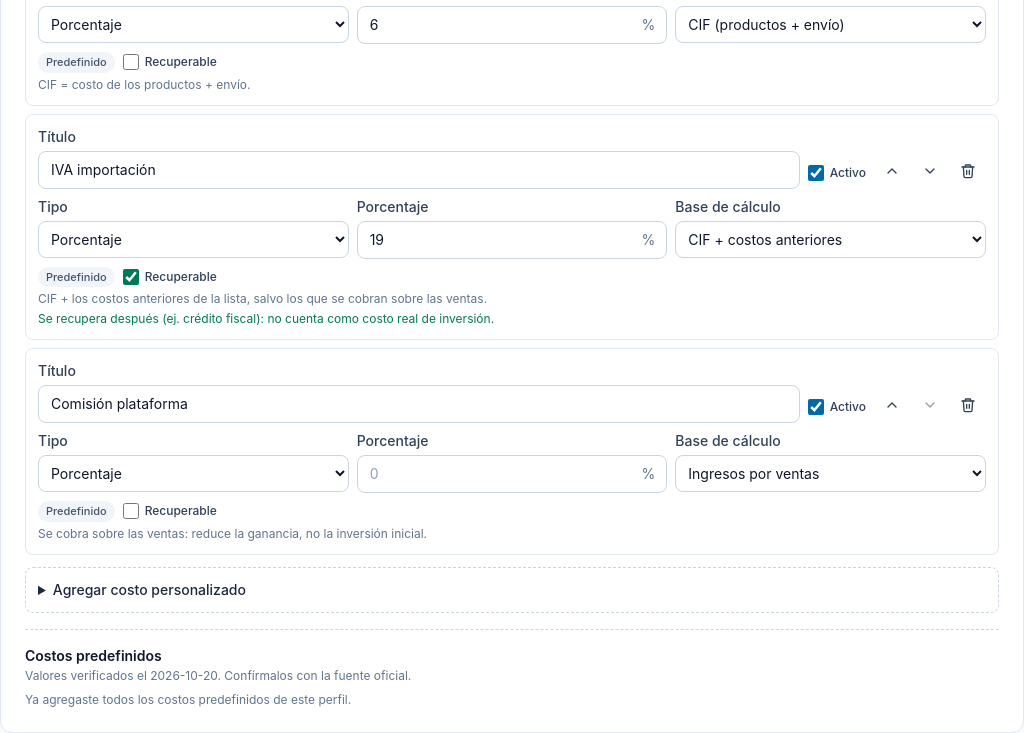
Test: CostList › no agrega un costo sin título
(page scrolled)
What coordinates should you click on to do the following:
click the heading "Agregar costo personalizado"
I would click on:
 (149, 589)
Its box is [53,580,246,598].
(page scrolled)
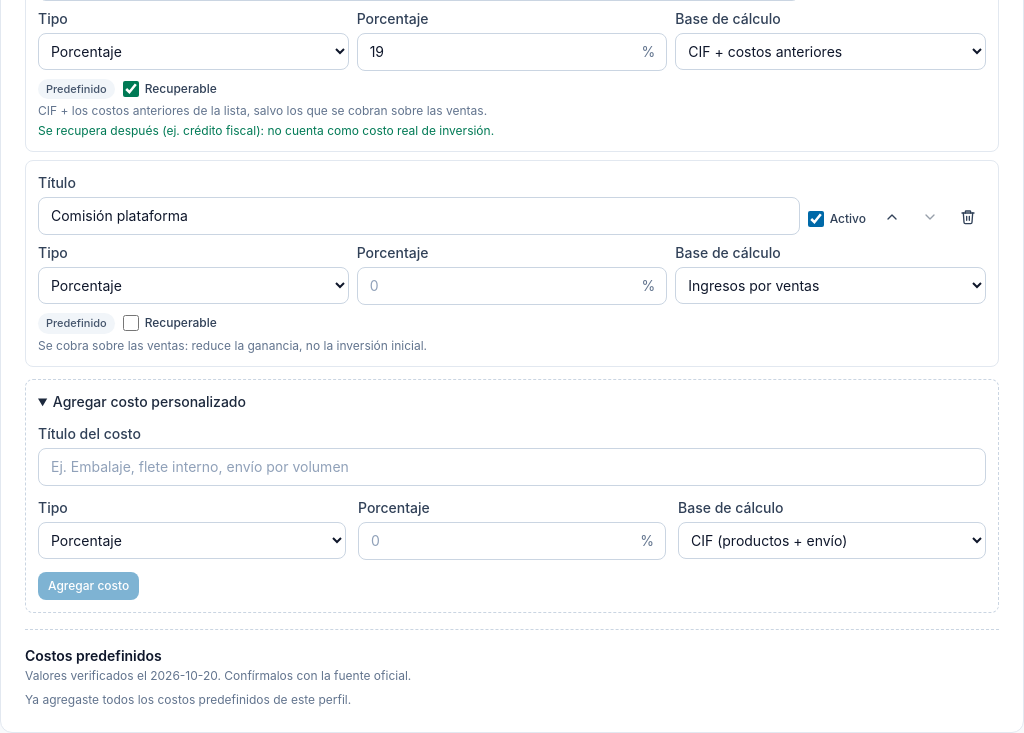
Check: the button "Agregar costo" is disabled, box [38,572,139,600]
